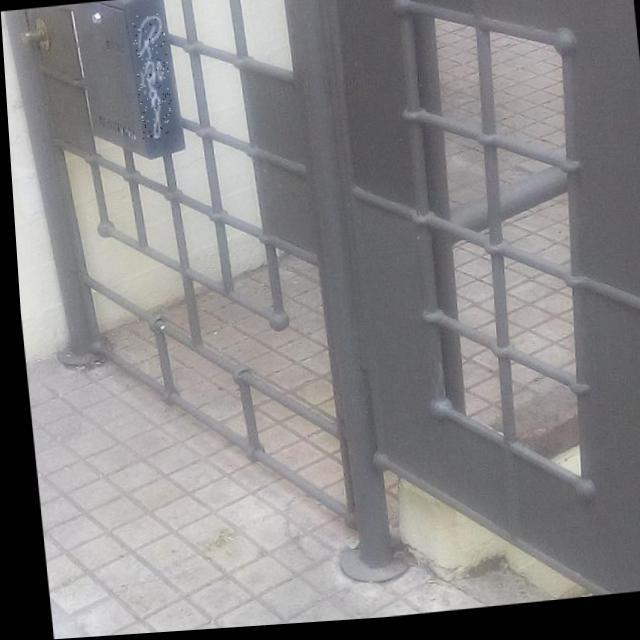-: (130, 15, 172, 141)
